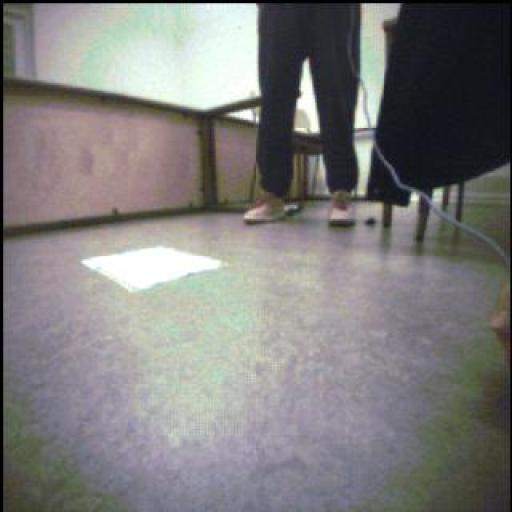Pad: (83, 247, 224, 294)
